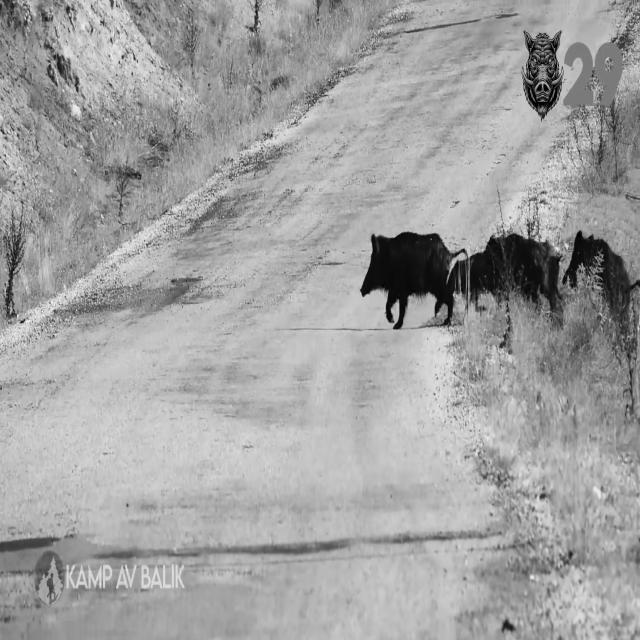boar: (360, 232, 460, 328), (449, 233, 561, 308), (564, 230, 634, 322)
